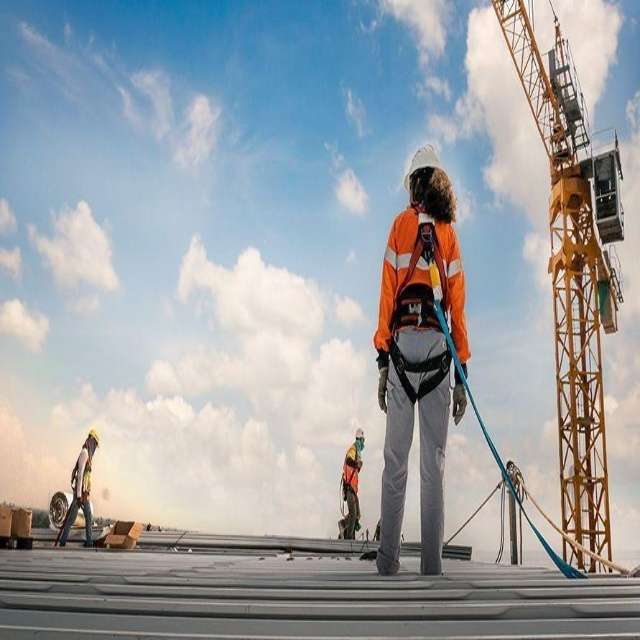Arnes_seguridad: (395, 197, 452, 360)
